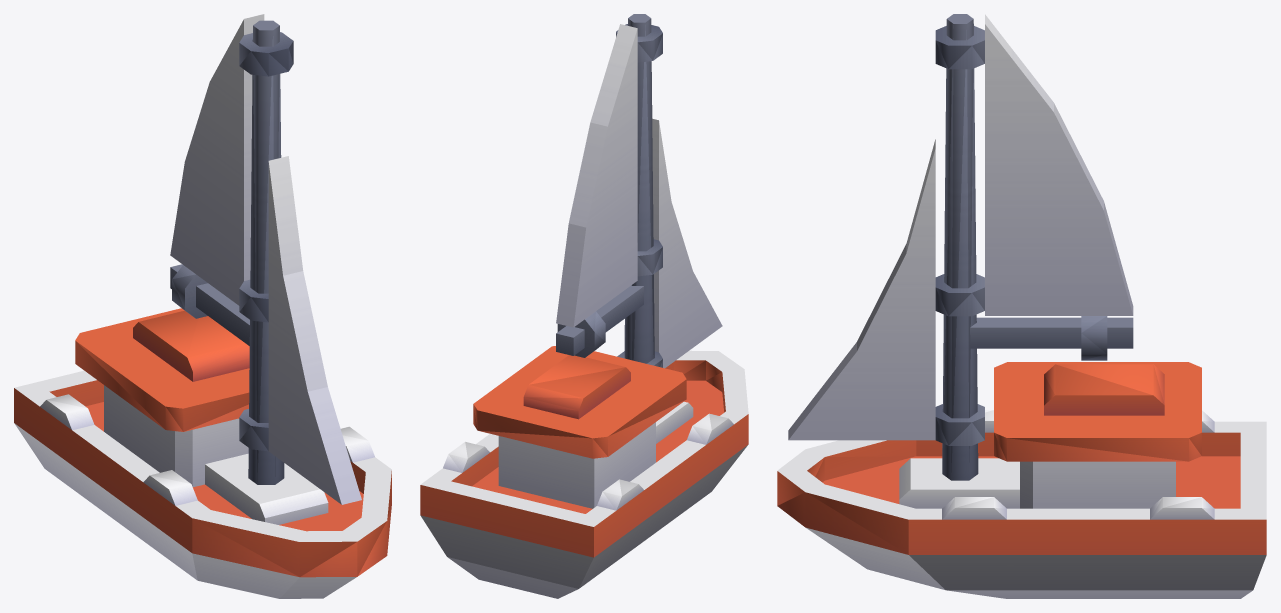
File: kw_boat_sail_a.fbx
3 views of the same model, side by side, from view 1: azimuth 30°, elevation 25°; view 2: azimuth 150°, elevation 25°; view 3: azimuth 270°, elevation 25° (orthographic). The views are drawn at different scales.
Parts seen in each view (by area): view 1: kw_boat_sail_a_LOD0; view 2: kw_boat_sail_a_LOD0; view 3: kw_boat_sail_a_LOD0.
Part boxes in pixels (<box>): kw_boat_sail_a_LOD0: <box>14,14,391,598</box>; kw_boat_sail_a_LOD0: <box>420,14,748,598</box>; kw_boat_sail_a_LOD0: <box>777,14,1266,598</box>.
Size of what is drawn, in the model's own units: 4.64 by 12.32 by 9.8.
